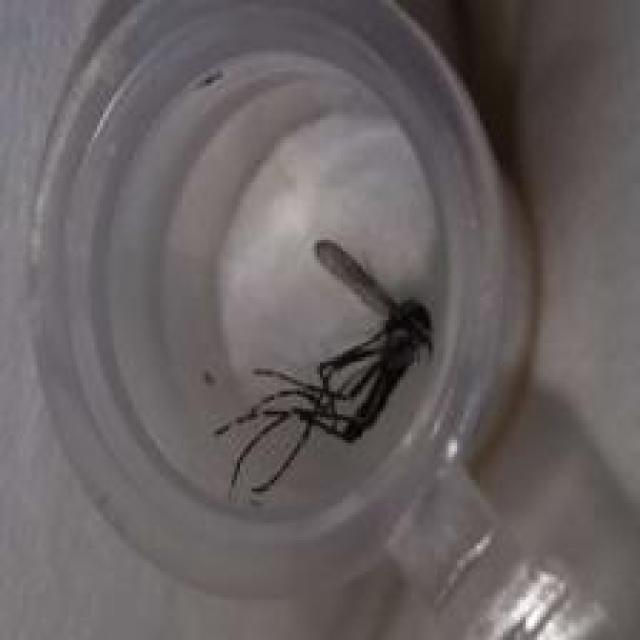Aedes albopictus: (212, 237, 434, 500)
